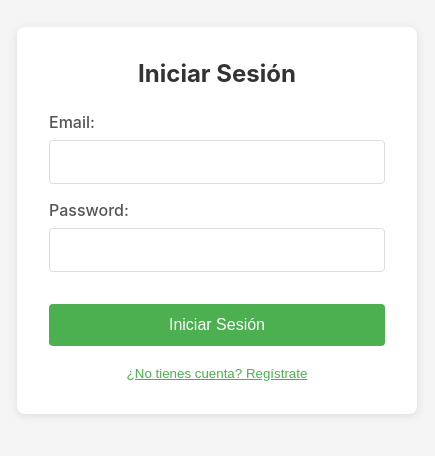
it: Login Component › muestra error cuando login falla
Type "wrong@example.com" into the field labelled "Email:".
click(217, 162); type("wrong@example.com")  # box [49,140,385,184]
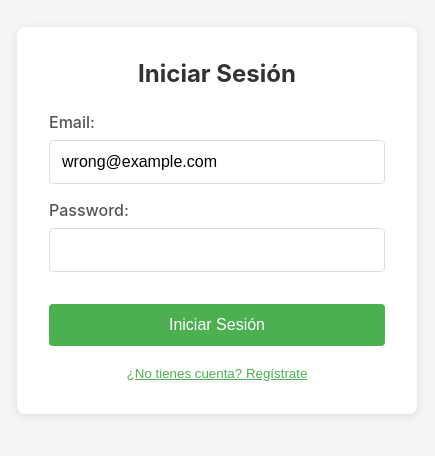
Type "wrongpass" into the password field labelled "Password:".
click(217, 250); type("wrongpass")  # box [49,228,385,272]
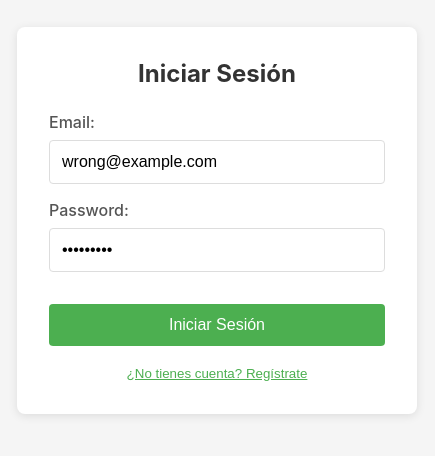
Click the button "Iniciar Sesión".
click(217, 324)  # box [49,304,385,346]
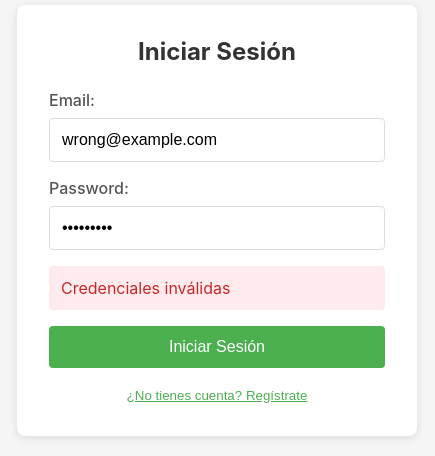
Expected: the text "Credenciales inválidas" is shown, [49,266,385,310]
